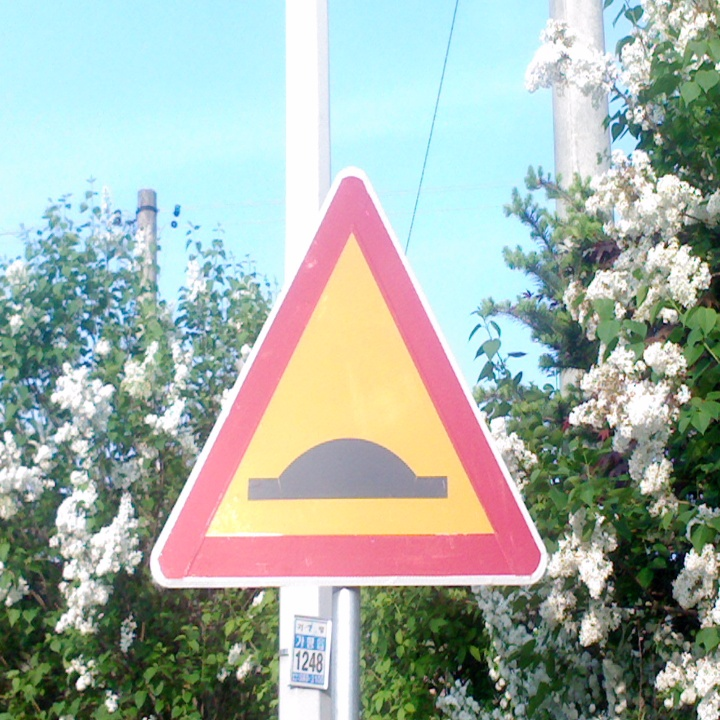bump: (241, 436, 451, 505)
